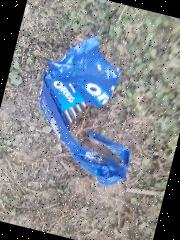general: (20, 26, 158, 192)
